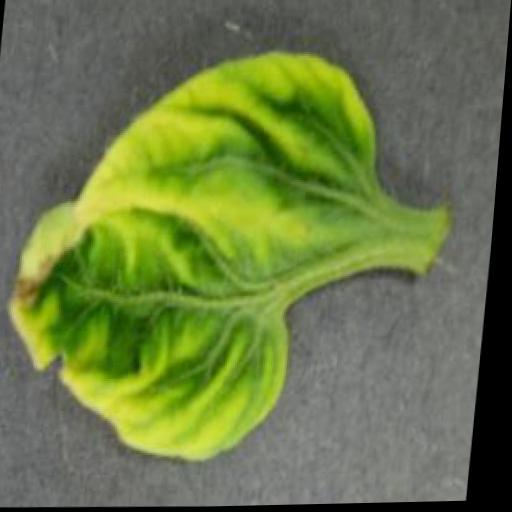Yellow Leaf Curl Virus: (0, 45, 396, 469)
